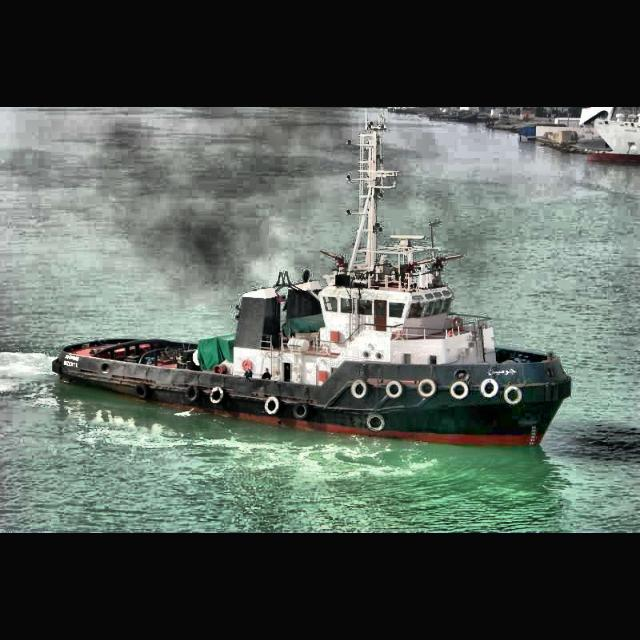tug: (51, 238, 573, 452)
